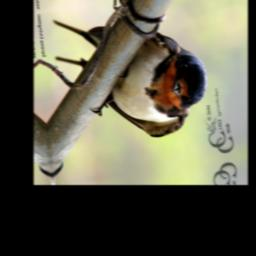Swallow: (52, 0, 213, 151)
